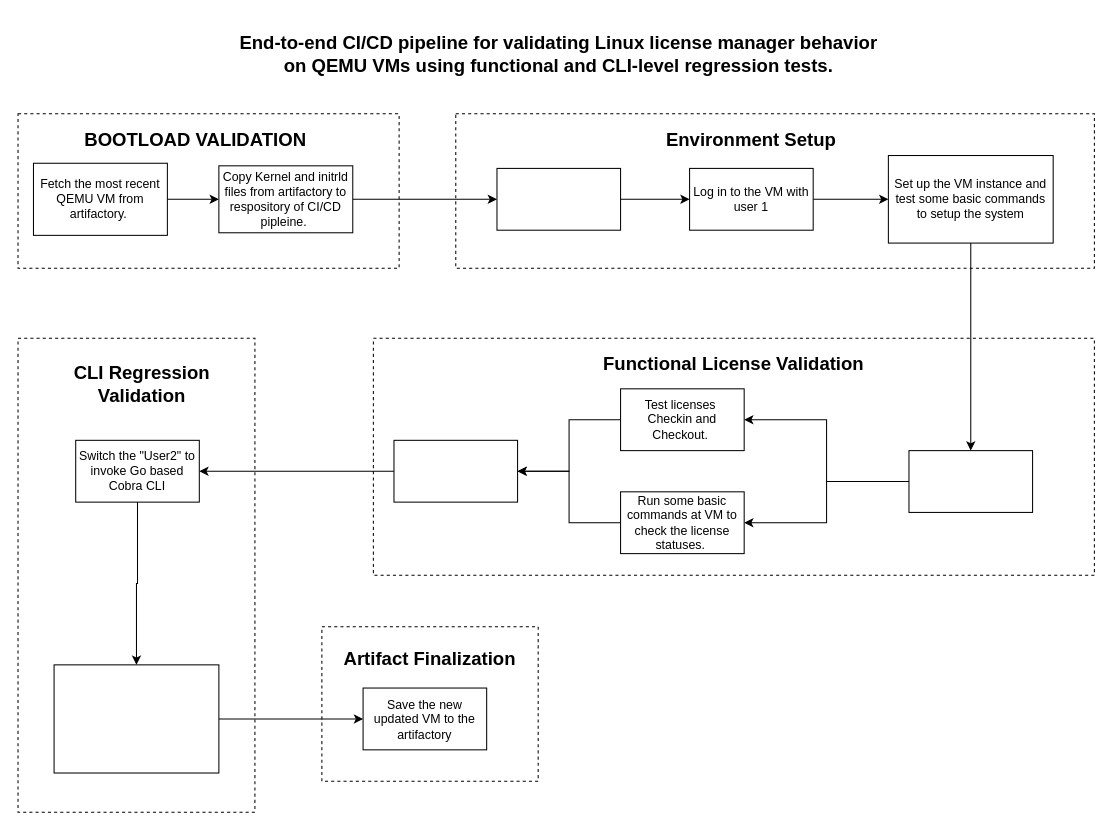
Some shapes in this 1112 by 830 pixel diagram are drawn without their labels. Here are the shapes that lost their labels. From the top down, the centre of each, then its label:
pixel 558 198: Boot up the VM with the support of initrd and kernel files.
pixel 455 470: Close the license Manager & reset eveything.
pixel 970 481: Invoke License Manager.
pixel 136 718: Run CLI regression suite and validate outputs against expected results.
